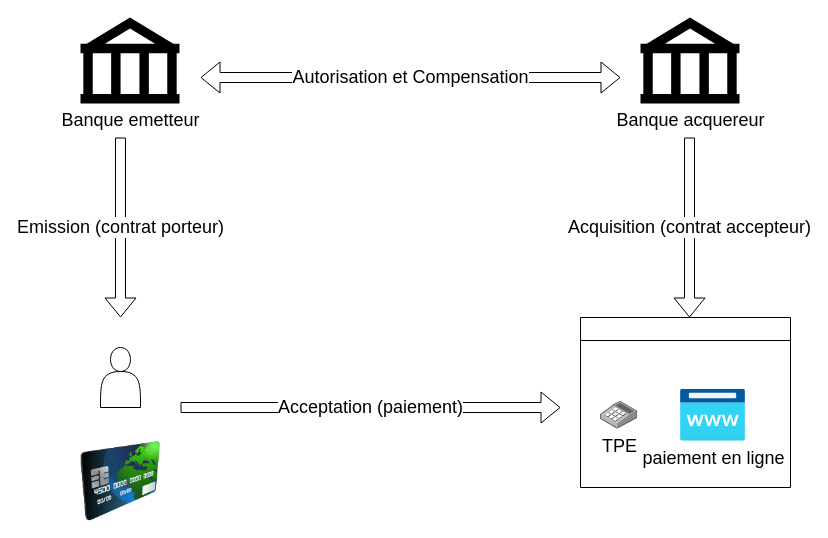
Image size: 828x538. Some labels were removed from this diagram. The shapes that lost their labels are listed below. From the top down, each one's box as (x1, y1, x2, y2) in pixels, then its label:
(100, 346, 140, 408): porteur
(580, 316, 790, 488): accepteur
